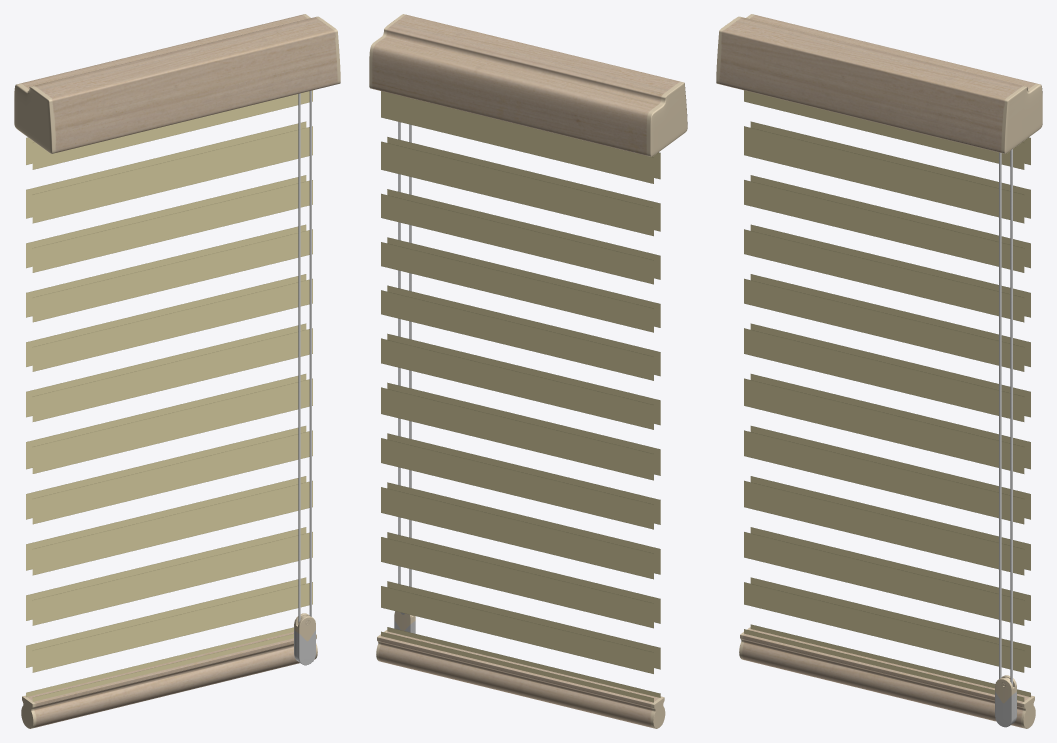
File: curtain_02_10.001.fbx
3 views of the same model, side by side, from view 1: azimuth 30°, elevation 25°; view 2: azimuth 150°, elevation 25°; view 3: azimuth 330°, elevation 25° (orthographic). The views are drawn at different scales.
Visible parts, largest first — view 1: curtain_02_10.001; view 2: curtain_02_10.001; view 3: curtain_02_10.001.
Part boxes in pixels (x1,y1,x2,y2): curtain_02_10.001: (14,14,340,728); curtain_02_10.001: (369,14,687,728); curtain_02_10.001: (716,14,1042,728).
Bounding box in the file's own units: 51.11 × 109 × 11.73.
Materials: 1 (1 with a texture image).
